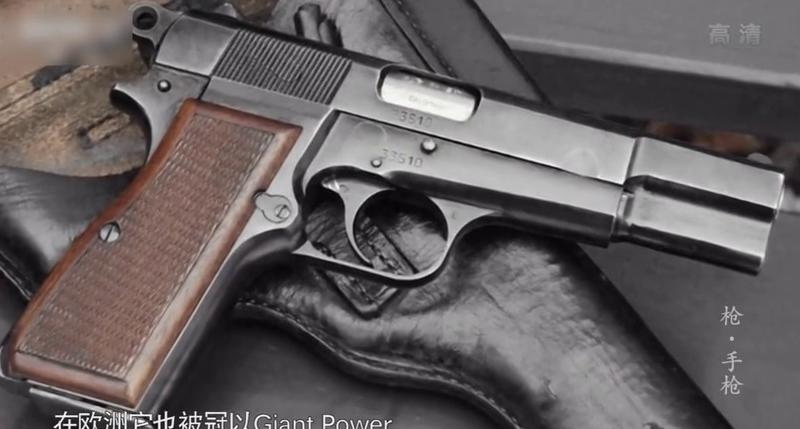gun: (1, 1, 800, 429)
